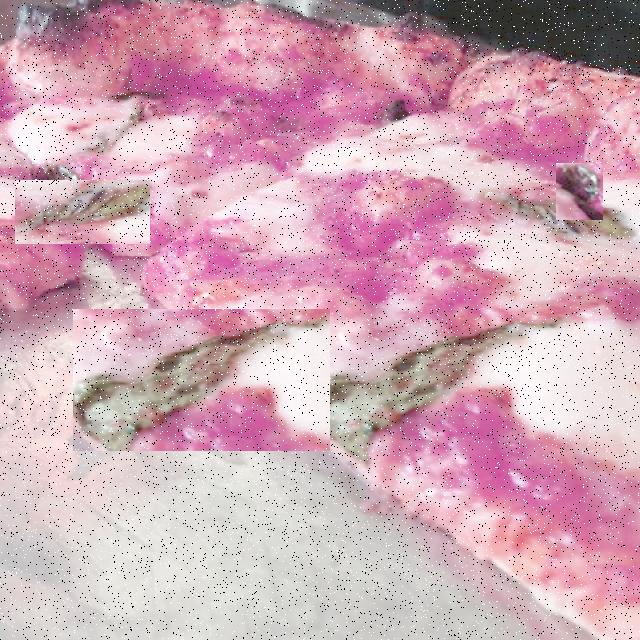Basil: (73, 309, 330, 451), (15, 180, 150, 244), (556, 163, 603, 220)
Pizza: (0, 0, 640, 640)
